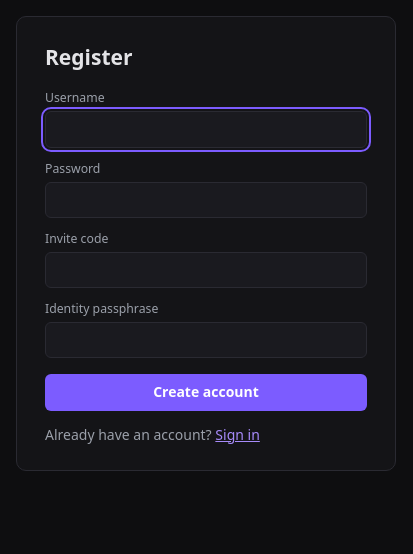
Scenario: test_web_register_form_requires_invite_code › renders invite-rejected copy on 401 without leaking the raw err.message
Type "bob" into the field labelled "Username".
click(206, 130); type("bob")  # box [45, 111, 367, 148]
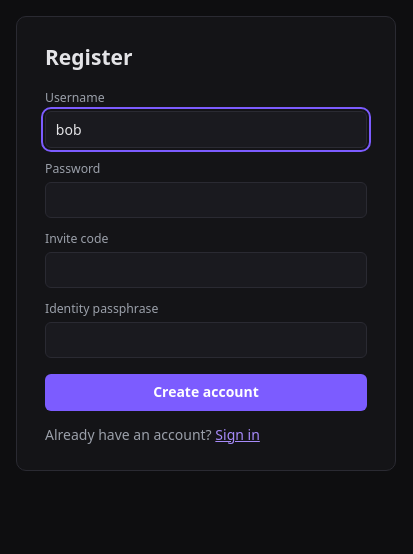
Type "passw0rd-placeholder" into the password field labelled "Password".
click(206, 200); type("passw0rd-placeholder")  # box [45, 182, 367, 218]
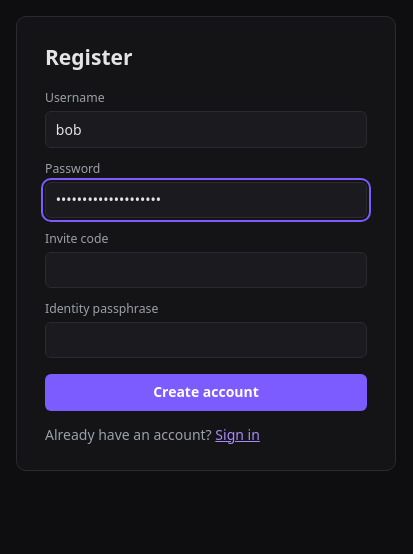
Type "test-invite-code-placeholder" into the field labelled "Invite code".
click(206, 270); type("test-invite-code-placeholder")  # box [45, 252, 367, 288]
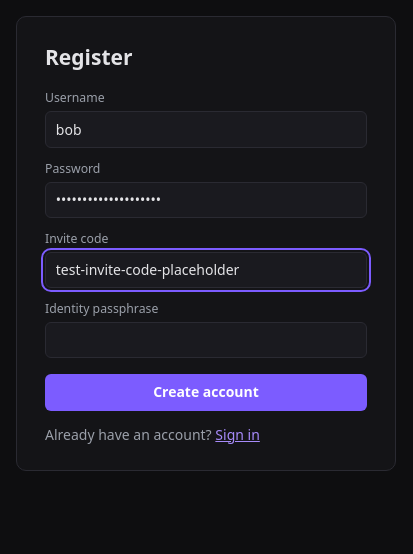
Click the button "Create account".
click(206, 392)  # box [45, 374, 367, 411]
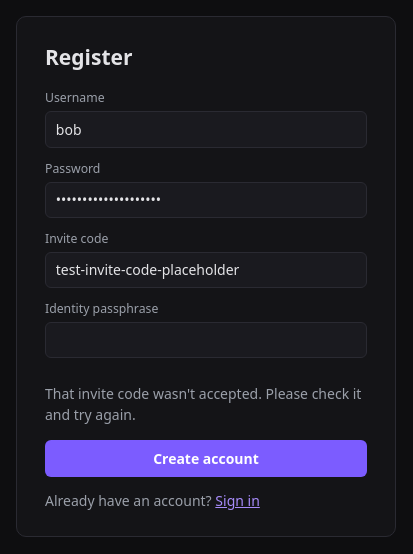
Expected: the message does not show "that username and password don't match", [45, 384, 367, 425]
Expected: the message shows "That invite code wasn't accepted", [45, 384, 361, 424]
